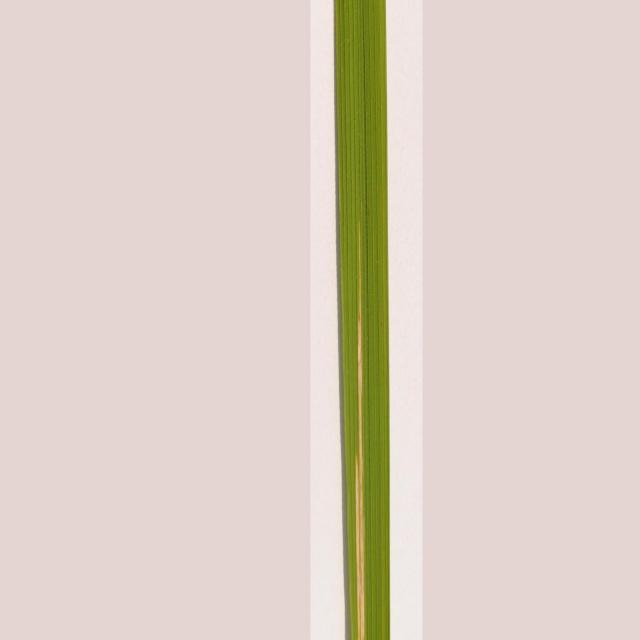Bacterial leaf blight: (335, 0, 395, 640)
